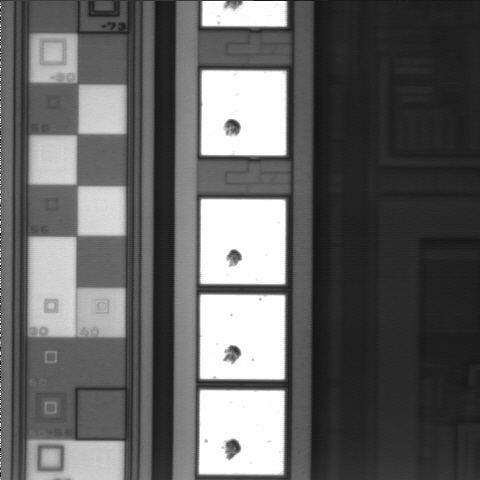pad: (201, 199, 286, 284), (199, 390, 284, 475), (201, 71, 286, 155), (200, 295, 285, 379)
